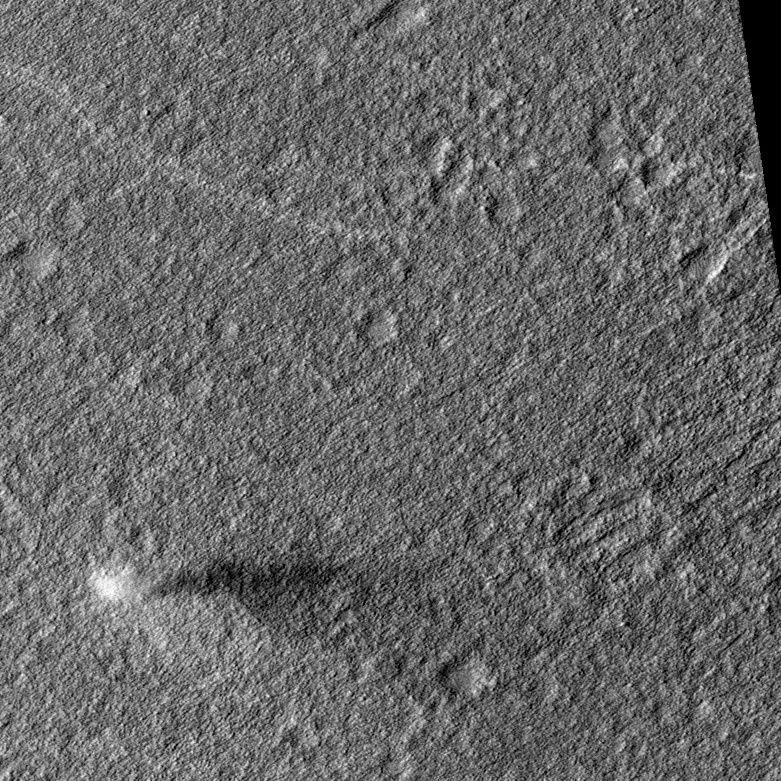dust_devil: (85, 546, 340, 630)
